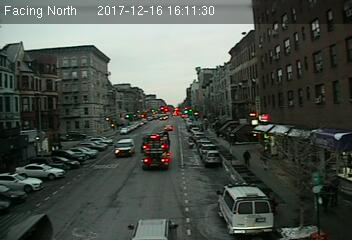car: (204, 150, 221, 164)
police: (217, 182, 276, 236)
truck: (141, 137, 169, 168), (114, 138, 136, 158)
